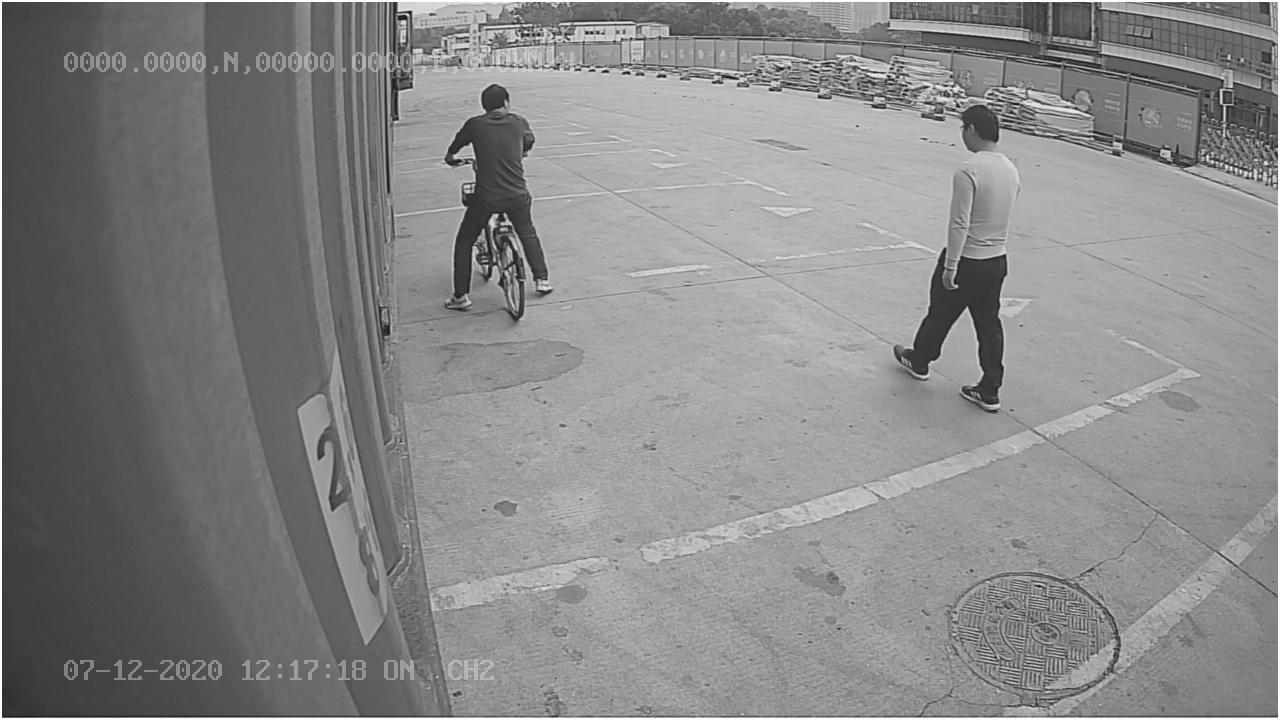person: (893, 103, 1022, 415)
